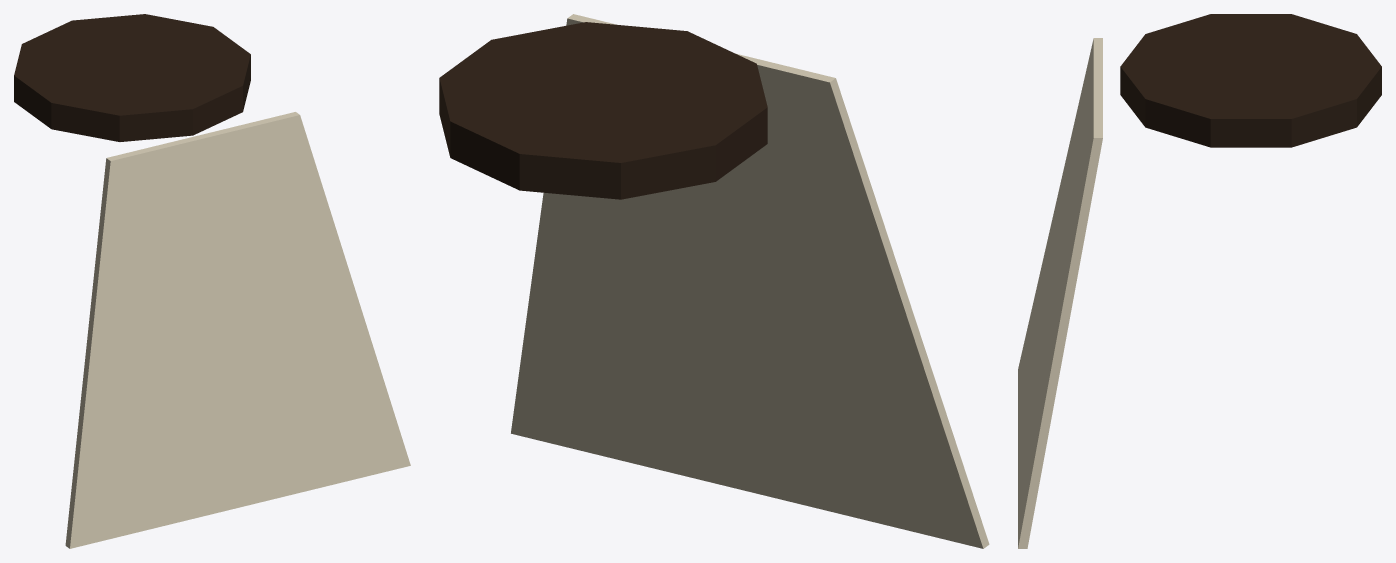
The model's file is apron_female.glb.
The picture shows the model from 3 angles, left to right: view 1: azimuth 30°, elevation 25°; view 2: azimuth 150°, elevation 25°; view 3: azimuth 270°, elevation 25°; orthographic projection. The views are drawn at different scales.
Visible parts, largest first — view 1: apron_female; view 2: apron_female; view 3: apron_female.
Boxes of the visible parts, x1,y1,x2,y2 form: apron_female: (14, 14, 410, 548); apron_female: (439, 14, 989, 548); apron_female: (1018, 14, 1381, 548).
Bounding box in the file's own units: 0.54 × 0.55 × 0.462.
